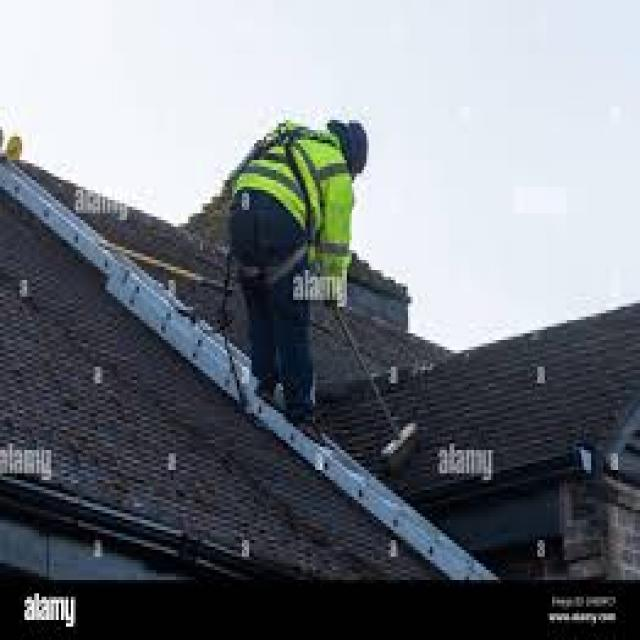Reflective-Jacket: (218, 117, 372, 300)
